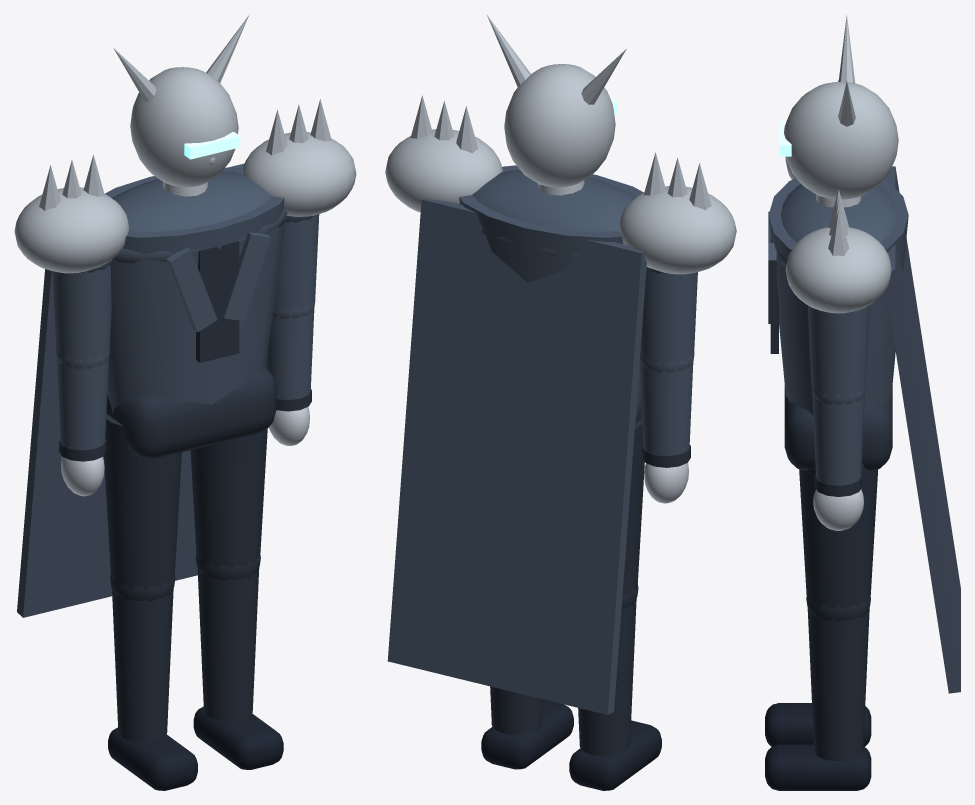
File: conde_glaciar.glb
3 renders of one model, left to right at view 1: azimuth 30°, elevation 25°; view 2: azimuth 150°, elevation 25°; view 3: azimuth 270°, elevation 25°, orthographic. The views are drawn at different scales.
Visible parts, largest first — view 1: body, leg_L, leg_R, arm_L, arm_R; view 2: body, arm_L, leg_L, leg_R; view 3: body, leg_R, arm_R, leg_L.
Boxes of the visible parts, left/top/right/bottom form: body: left=14, top=14, right=356, bottom=617; leg_L: left=104, top=414, right=197, bottom=790; leg_R: left=190, top=428, right=283, bottom=769; arm_L: left=52, top=259, right=112, bottom=496; arm_R: left=265, top=214, right=319, bottom=445; body: left=385, top=14, right=736, bottom=714; arm_L: left=639, top=267, right=697, bottom=503; leg_L: left=569, top=419, right=661, bottom=790; leg_R: left=481, top=686, right=573, bottom=769; body: left=768, top=14, right=960, bottom=693; leg_R: left=765, top=462, right=878, bottom=790; arm_R: left=808, top=305, right=869, bottom=530; leg_L: left=765, top=703, right=871, bottom=746.
Bounding box in the file's own units: 0.922 × 1.93 × 0.4789.
